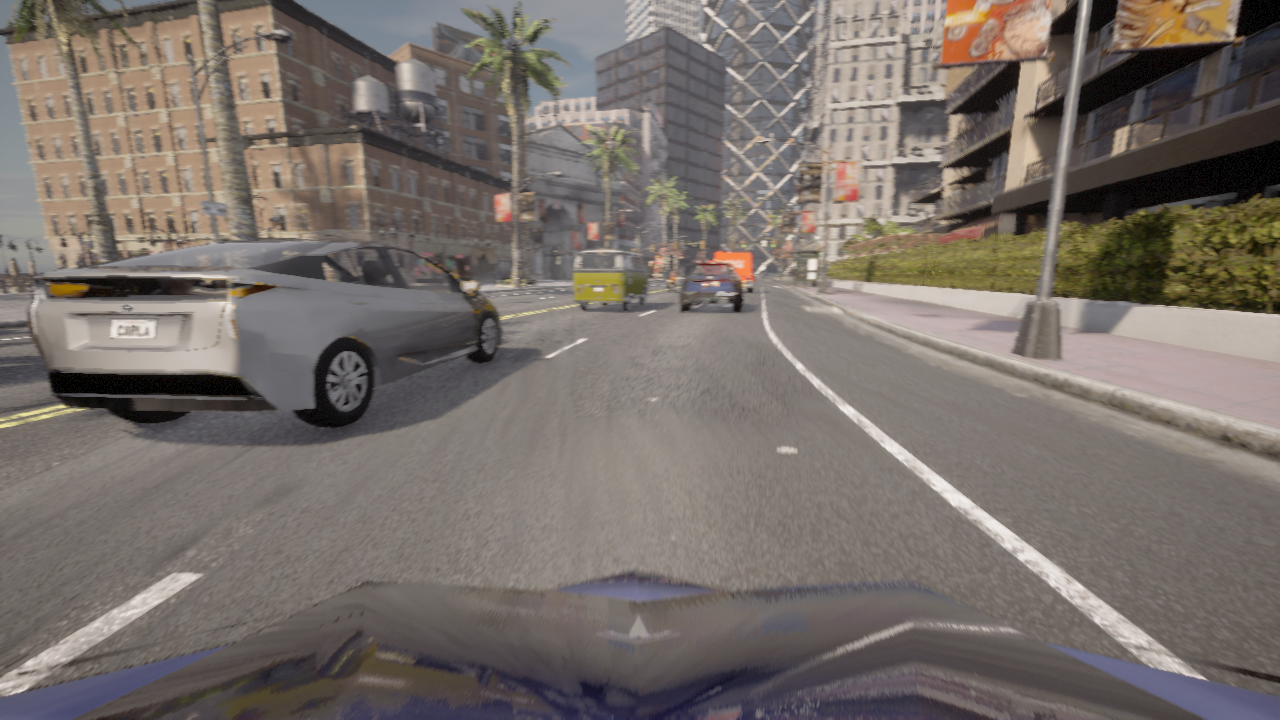cyclist: (0, 569, 1279, 719), (27, 239, 501, 427), (573, 249, 650, 310), (680, 260, 745, 312), (715, 252, 755, 292), (667, 275, 679, 291)
